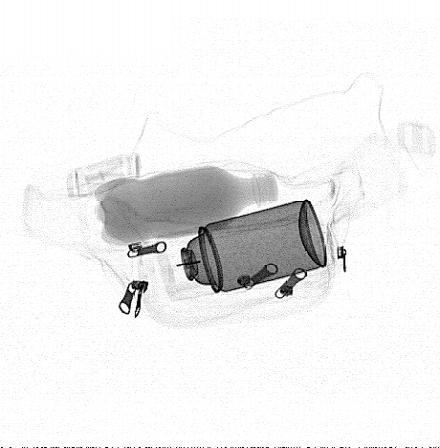Sprayer: (156, 199, 328, 303)
